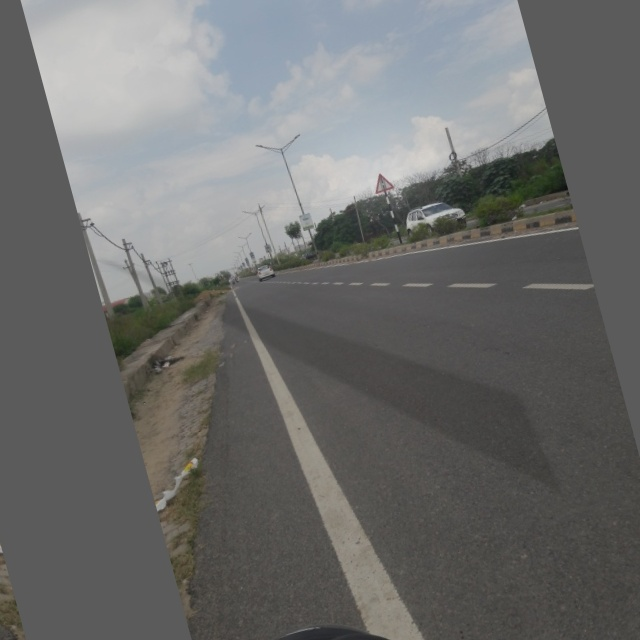Gap_in_Median: (366, 166, 398, 197)
